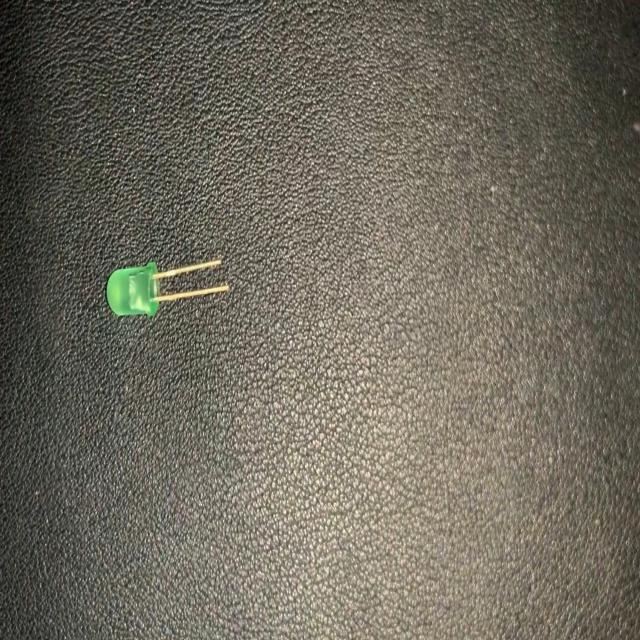LED: (106, 254, 230, 324)
